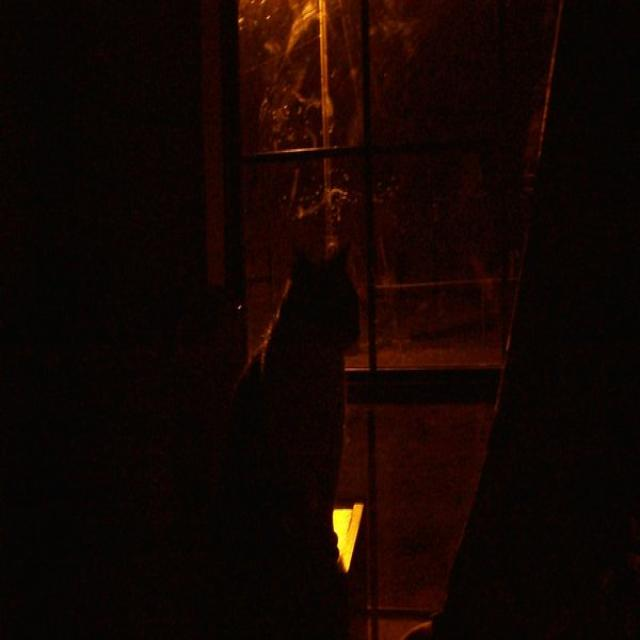Cat: (210, 240, 374, 614)
chair: (118, 271, 394, 638)
